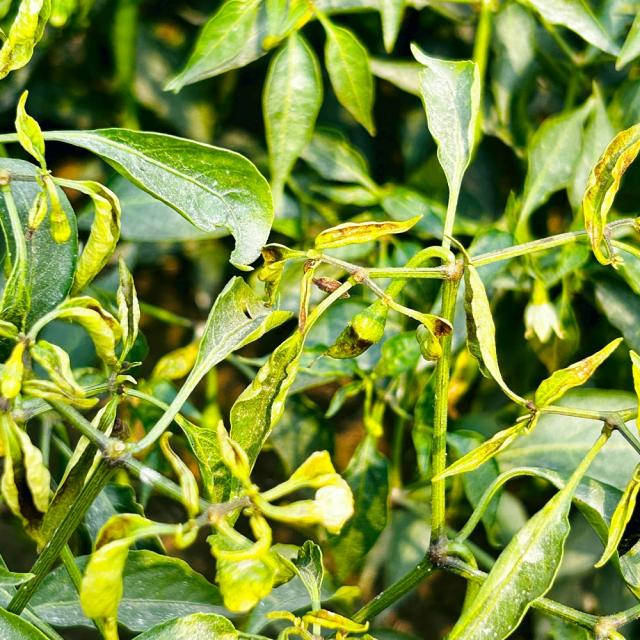Chilli_Leaf_Curl: (1, 1, 638, 638), (12, 91, 275, 271), (444, 411, 625, 639), (430, 336, 624, 484), (408, 41, 482, 249), (580, 121, 638, 268)
